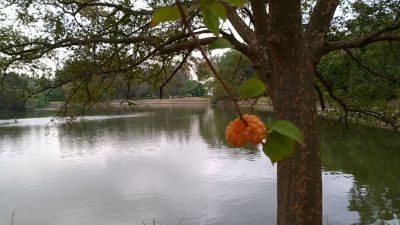eggs: (223, 113, 270, 148)
